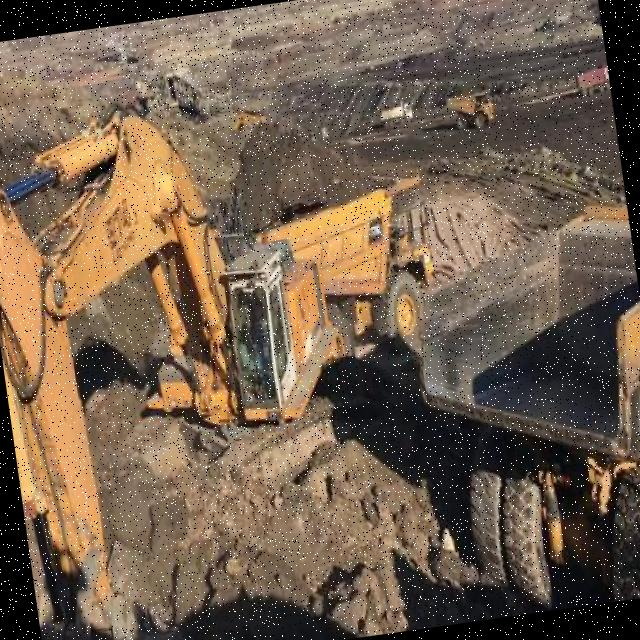Dump Truck: (396, 196, 640, 624), (240, 166, 448, 362), (444, 86, 498, 134), (572, 60, 612, 100), (375, 100, 416, 125)
Excavator: (0, 70, 367, 640)
